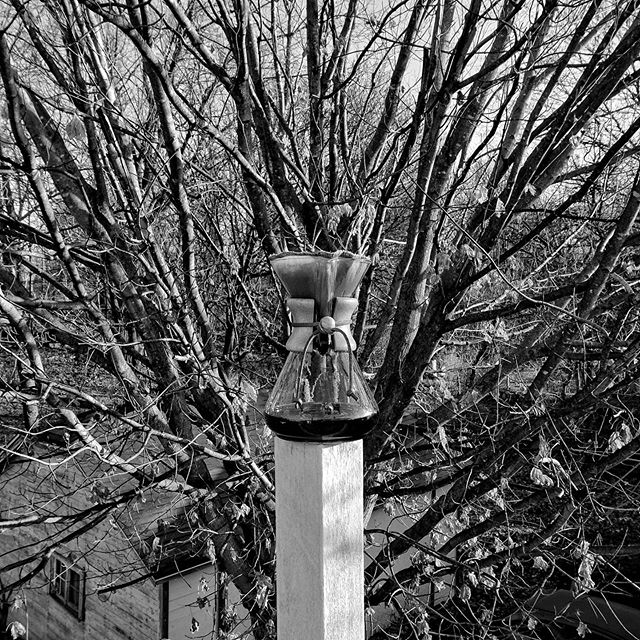tree: (1, 1, 632, 627)
